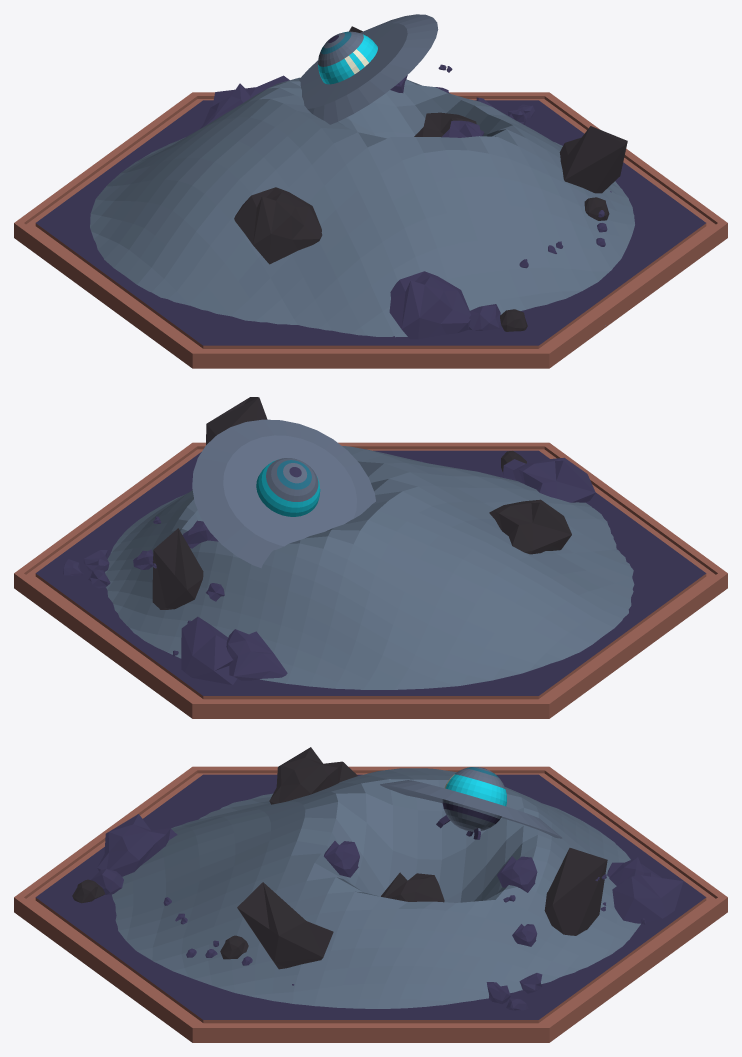
The model's file is Hexagon_Crater.glb.
The picture shows the model from 3 angles, top to bottom: view 1: azimuth 30°, elevation 25°; view 2: azimuth 150°, elevation 25°; view 3: azimuth 270°, elevation 25°; orthographic projection.
Parts seen in each view (by area): view 1: Plane, Circle, Sphere, Sphere.029, Sphere.005, Icosphere.002, Sphere.001, Sphere.025, Sphere.002; view 2: Plane, Circle, Sphere, Sphere.029, Icosphere.001, Icosphere, Sphere.005, Sphere.002, Icosphere.002, Sphere.024; view 3: Plane, Circle, Sphere, Icosphere.002, Icosphere.001, Sphere.005, Icosphere, Sphere.029, Sphere.001, Sphere.024, Sphere.023, Sphere.002 (+3 smaller).
Part boxes in pixels (bbox=[...]): Plane: bbox=[90, 77, 634, 337]; Circle: bbox=[14, 92, 727, 368]; Sphere: bbox=[299, 14, 438, 124]; Sphere.029: bbox=[234, 187, 322, 264]; Sphere.005: bbox=[389, 271, 470, 339]; Icosphere.002: bbox=[559, 126, 627, 193]; Sphere.001: bbox=[414, 112, 476, 136]; Sphere.025: bbox=[469, 304, 500, 330]; Sphere.002: bbox=[200, 83, 251, 128]; Plane: bbox=[105, 446, 634, 689]; Circle: bbox=[14, 442, 727, 718]; Sphere: bbox=[192, 419, 375, 568]; Sphere.029: bbox=[489, 499, 571, 554]; Icosphere.001: bbox=[152, 528, 203, 609]; Icosphere: bbox=[181, 616, 237, 685]; Sphere.005: bbox=[513, 457, 595, 502]; Sphere.002: bbox=[226, 629, 287, 680]; Icosphere.002: bbox=[206, 397, 267, 444]; Sphere.024: bbox=[182, 520, 218, 548]; Plane: bbox=[69, 768, 640, 1008]; Circle: bbox=[14, 766, 727, 1042]; Sphere: bbox=[380, 767, 562, 839]; Icosphere.002: bbox=[237, 882, 333, 969]; Icosphere.001: bbox=[544, 848, 607, 935]; Sphere.005: bbox=[97, 814, 177, 876]; Icosphere: bbox=[612, 875, 683, 923]; Sphere.029: bbox=[269, 747, 357, 804]; Sphere.001: bbox=[381, 872, 444, 902]; Sphere.024: bbox=[497, 856, 537, 892]; Sphere.023: bbox=[324, 841, 359, 877]; Sphere.002: bbox=[607, 857, 661, 885].
Bounding box in the file's own units: 30.17 × 8.86 × 34.84.
Materials: 2 (2 with a texture image).
